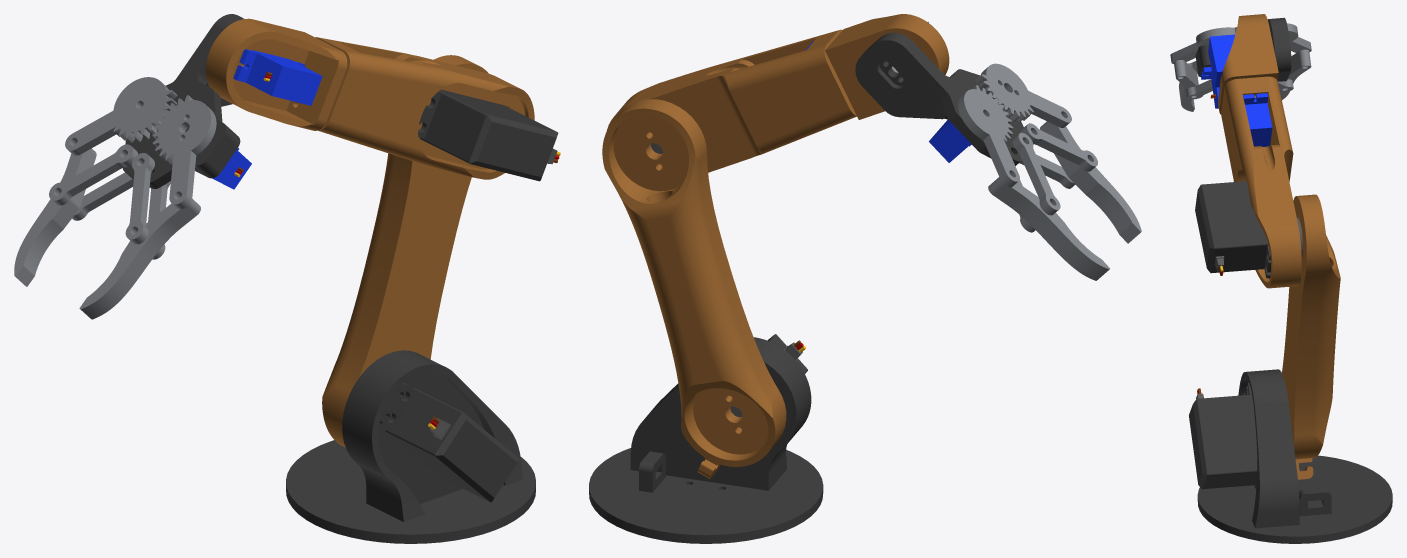
The model's file is robot_arm.glb.
The picture shows the model from 3 angles, left to right: view 1: azimuth 30°, elevation 25°; view 2: azimuth 150°, elevation 25°; view 3: azimuth 270°, elevation 25°; orthographic projection. The views are drawn at different scales.
Parts seen in each view (by area): view 1: Waist-1, Arm 01-1, Arm 02 v3-1, Arm 03-1, Servo Motor MG996R-2, Servo Motor MG996R-7, Gripper base-1, gear2-1, gear1-1, Gripper 1-1, Gripper 1-2, Servo Motor Micro 9g-2 (+4 smaller); view 2: Arm 01-1, Waist-1, Arm 02 v3-1, Gripper base-1, Arm 03-1, Gripper 1-2, gear1-1, Gripper 1-1, gear2-1, grip link 1-4, grip link 1-3, Servo Motor Micro 9g-1; view 3: Waist-1, Arm 01-1, Arm 02 v3-1, Servo Motor MG996R-2, Servo Motor MG996R-7, Arm 03-1, Servo Motor Micro 9g-1 (×2), Gripper base-1, Servo Motor Micro 9g-2, Gripper 1-1, gear2-1, Gripper 1-2 (+2 smaller).
Part boxes in pixels (box(x1,y1,x2,y2)): Waist-1: box(286, 350, 535, 543); Arm 01-1: box(322, 55, 488, 447); Arm 02 v3-1: box(315, 37, 534, 179); Arm 03-1: box(205, 18, 347, 130); Servo Motor MG996R-2: box(379, 382, 519, 502); Servo Motor MG996R-7: box(418, 89, 560, 181); Gripper base-1: box(122, 14, 243, 188); gear2-1: box(152, 95, 216, 209); gear1-1: box(65, 77, 177, 155); Gripper 1-1: box(79, 199, 200, 319); Gripper 1-2: box(14, 148, 96, 286); Servo Motor Micro 9g-2: box(233, 49, 322, 105); Arm 01-1: box(602, 99, 786, 478); Waist-1: box(589, 337, 823, 543); Arm 02 v3-1: box(607, 29, 856, 172); Gripper base-1: box(855, 32, 1023, 165); Arm 03-1: box(825, 14, 949, 119); Gripper 1-2: box(988, 177, 1110, 280); gear1-1: box(958, 85, 1019, 187); Gripper 1-1: box(1040, 121, 1141, 243); gear2-1: box(975, 63, 1071, 127); grip link 1-4: box(1012, 132, 1060, 215); grip link 1-3: box(1020, 123, 1097, 171); Servo Motor Micro 9g-1: box(929, 120, 971, 162); Waist-1: box(1197, 369, 1392, 543); Arm 01-1: box(1282, 194, 1340, 479); Arm 02 v3-1: box(1221, 76, 1301, 288); Servo Motor MG996R-2: box(1189, 382, 1257, 490); Servo Motor MG996R-7: box(1195, 181, 1302, 278); Arm 03-1: box(1218, 14, 1278, 114); Servo Motor Micro 9g-1 (×2): box(1201, 67, 1272, 146); Gripper base-1: box(1195, 17, 1291, 81); Servo Motor Micro 9g-2: box(1208, 34, 1235, 87); Gripper 1-1: box(1174, 60, 1198, 111); gear2-1: box(1170, 27, 1236, 63); Gripper 1-2: box(1280, 49, 1311, 99).
Bounding box in the file's own units: 0.234 × 0.2269 × 0.1106.
